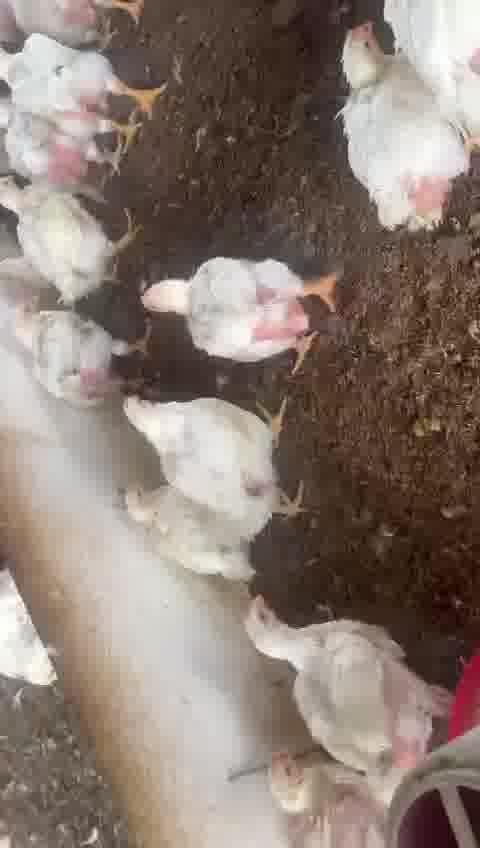AbNormal: (104, 471, 255, 592), (231, 745, 376, 848)
Normal: (243, 591, 443, 779), (334, 19, 466, 220), (135, 259, 352, 363), (124, 389, 305, 512), (0, 169, 132, 306), (0, 40, 175, 138), (6, 295, 155, 400), (0, 98, 121, 195)
